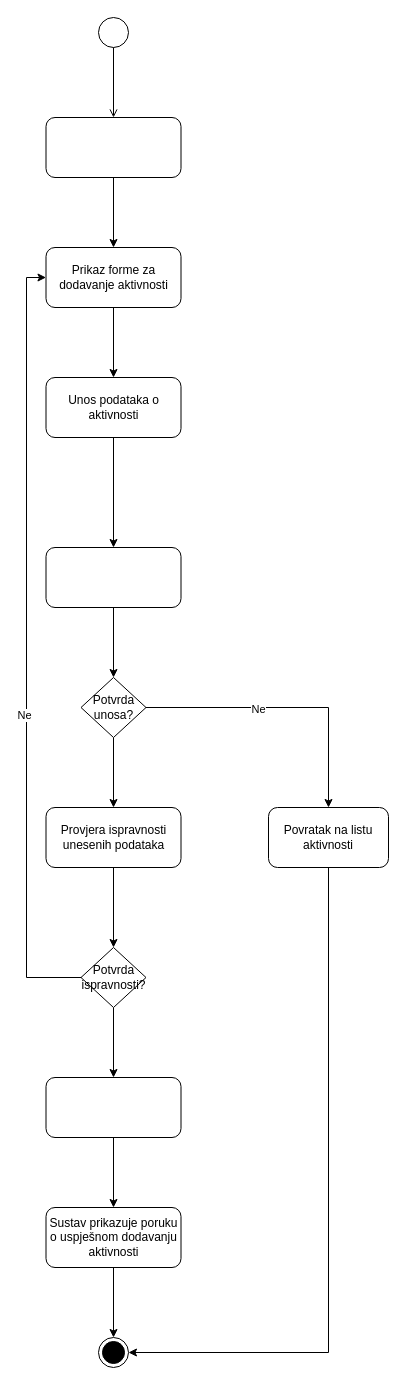
The diagram is 406 pixels wide and 1385 high, and some of its shapes have lost their labels. The shapes that lost their labels are listed below. From the top down, each one's box as (x1, y1, x2, y2) in pixels, then its label:
(45, 116, 181, 178): Administrator odabire opciju dodavanja nove aktivnosti
(45, 546, 181, 608): Potvrda unosa aktivnosti u sustav
(45, 1076, 181, 1138): Spremanje aktivnosti u bazu podataka
